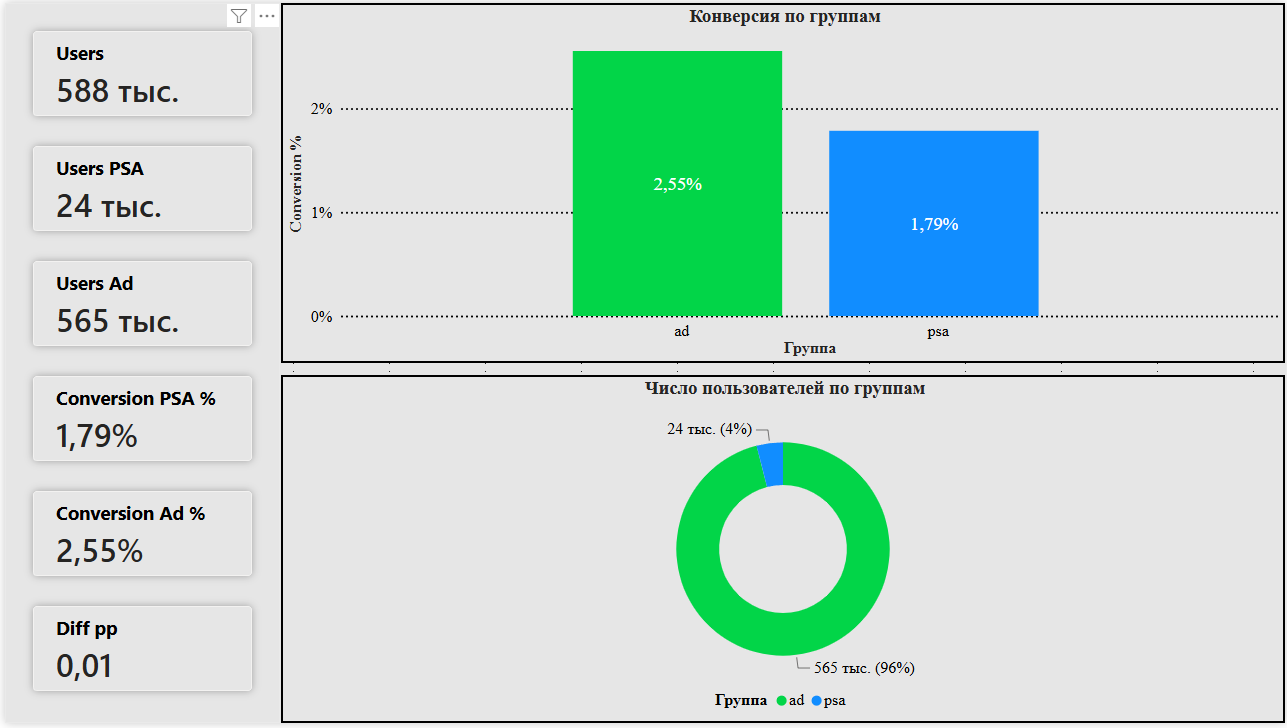

This screenshot's page, from the dashboard's own definition file:
{"tool":"powerbi","page":{"name":"Overview","canvas":[1280,720],"ordinal":0},"visuals":[{"type":"cardVisual","fields":{"Data":["clean_users.Users","clean_users.Users PSA","clean_users.Users Ad","clean_users.Conversion PSA %","clean_users.Conversion Ad %","clean_users.Diff pp"]},"box":[0,0,275,720.4],"z":0},{"type":"clusteredColumnChart","title":"Конверсия по группам","fields":{"Category":["clean_users.test_group"],"Y":["clean_users.Conversion %"]},"box":[275.6,0,1004.4,360],"z":1},{"type":"donutChart","title":"Число пользователей по группам","fields":{"Category":["clean_users.test_group"],"Y":["clean_users.Users"]},"box":[275.6,372.2,1004.4,347.8],"z":2}]}

Visuals, with their boxes in screenshot pixels (x1, y1, x2, y2), scaled from the page's 1280x720 canvas onto the 1287x728 screenshot:
cardVisual - clean_users.Users x clean_users.Users PSA: [x1=0, y1=0, x2=277, y2=727]
"Конверсия по группам" clusteredColumnChart: [x1=277, y1=0, x2=1286, y2=364]
"Число пользователей по группам" donutChart: [x1=277, y1=376, x2=1286, y2=727]
